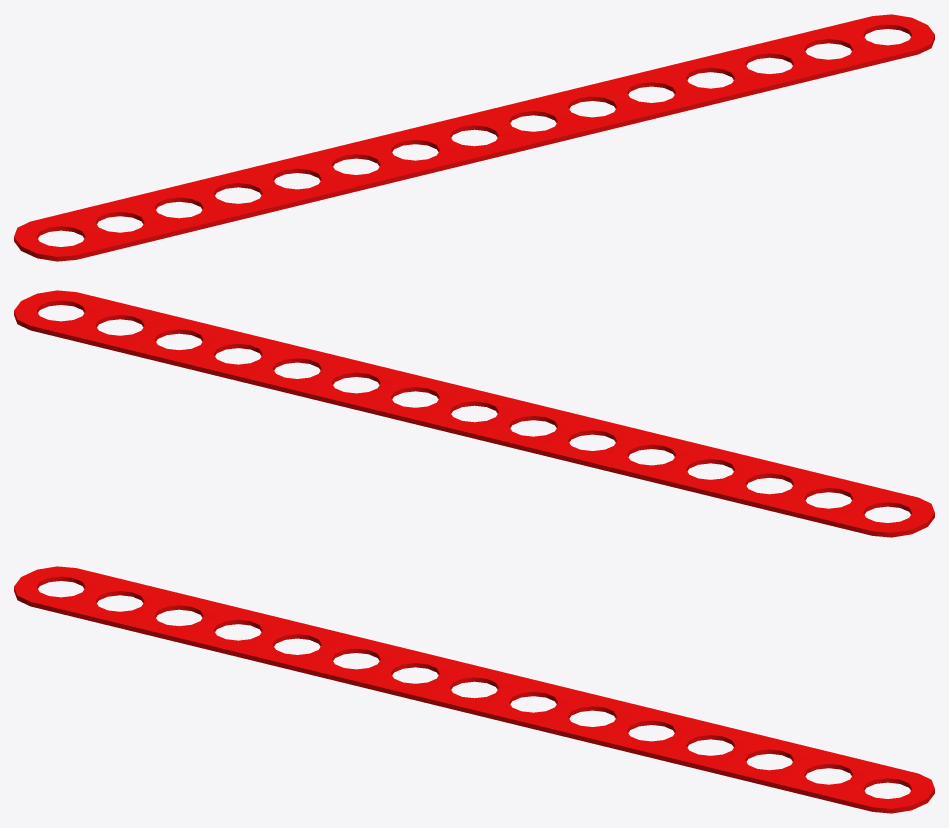
File: FifteenLongRed.fbx
3 renders of one model, top to bottom at view 1: azimuth 30°, elevation 25°; view 2: azimuth 150°, elevation 25°; view 3: azimuth 330°, elevation 25°, orthographic.
Visible parts, largest first — view 1: Blue15; view 2: Blue15; view 3: Blue15.
Boxes of the visible parts, left/top/right/bottom form: Blue15: left=14, top=14, right=934, bottom=261; Blue15: left=14, top=290, right=934, bottom=537; Blue15: left=14, top=566, right=934, bottom=813.
Size of the model in its own units: 39.25 by 0.1942 by 3.45.
